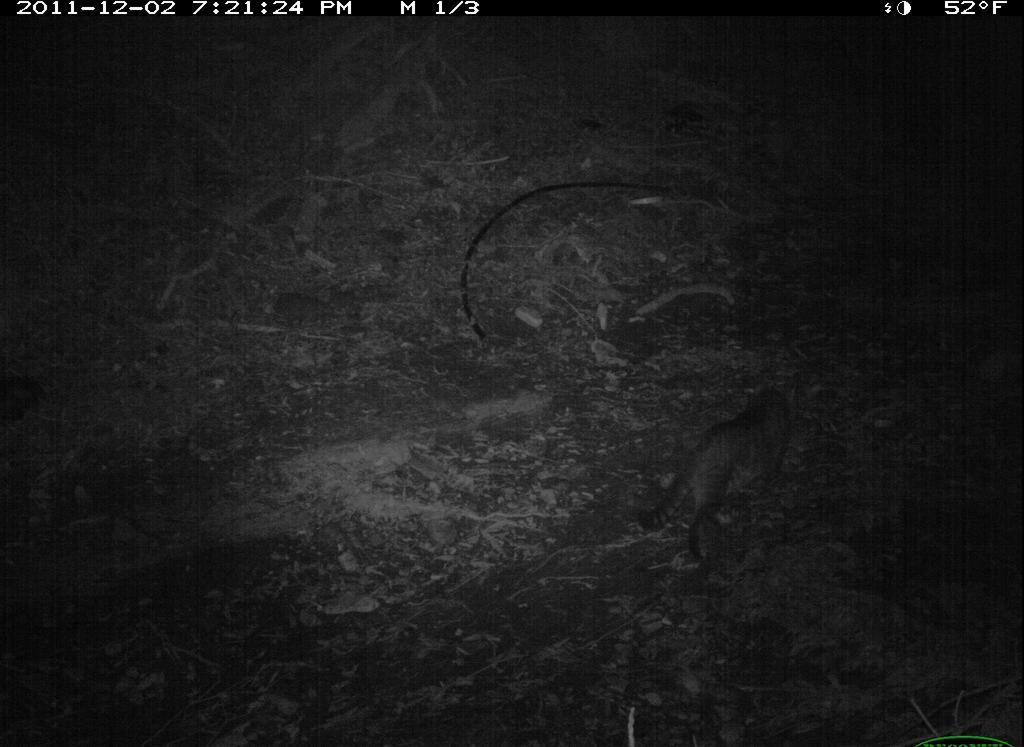cat: (636, 371, 802, 563)
